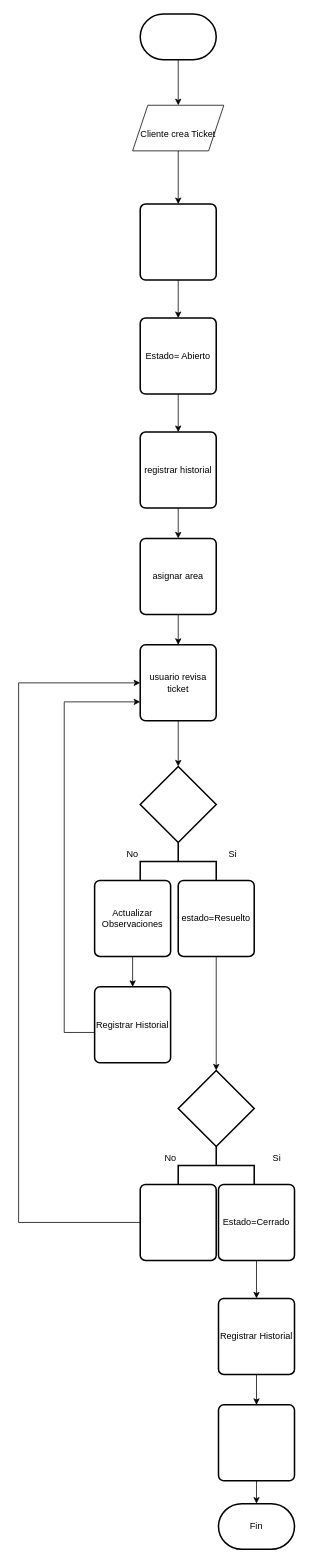
Some shapes in this 313 by 1563 pixel diagram are drawn without their labels. Each missing label, with the box of its shape:
Clasificar Ticket: (139, 203, 217, 280)
Generar Informe: (217, 1404, 295, 1481)
Inicio: (139, 13, 217, 60)
Seguimiento: (139, 1183, 217, 1261)
¿Cerrar Ticket?: (177, 1069, 255, 1147)
¿Problema Resuelto?: (139, 765, 217, 843)
